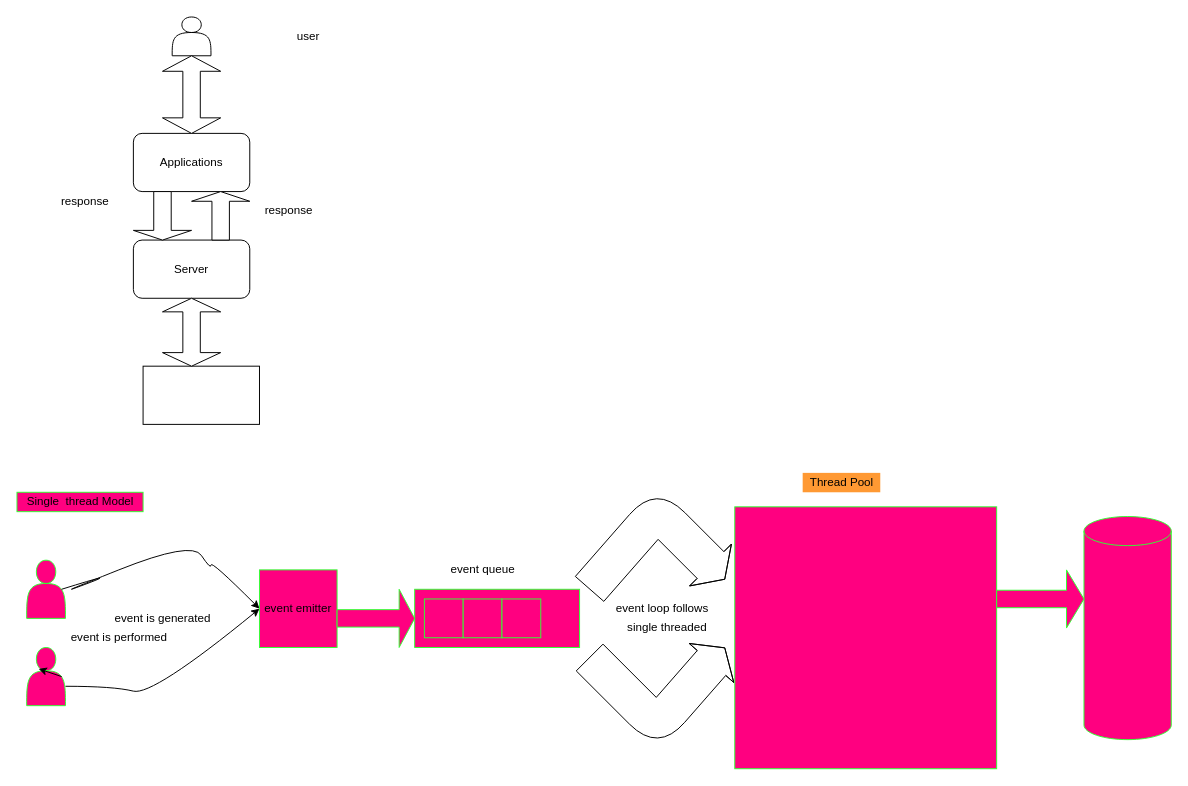
This 1188x786 diagram has some shape labels left out. The centre of each missing label's shape, as x and y in pixels:
database: the point at 1127,628
databases: the point at 200,394
file System Network Process Other: the point at 865,637
